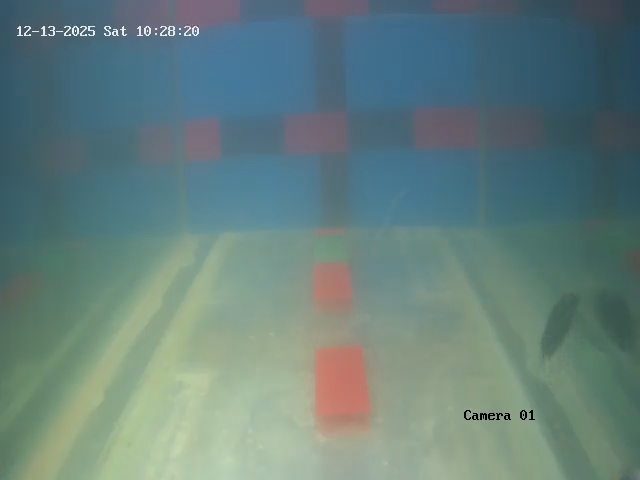fish: (533, 297, 585, 364)
